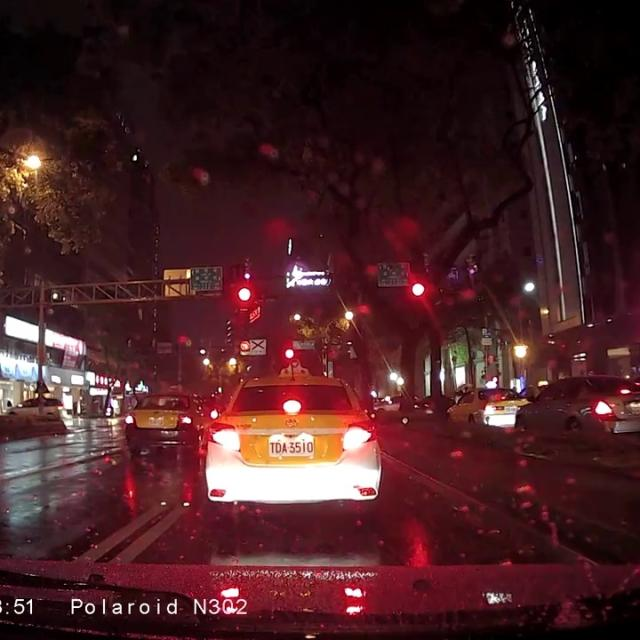Car: (200, 367, 381, 512), (511, 374, 639, 440), (124, 389, 206, 453), (447, 384, 533, 430), (2, 395, 72, 424), (517, 379, 551, 402), (373, 392, 406, 410)
